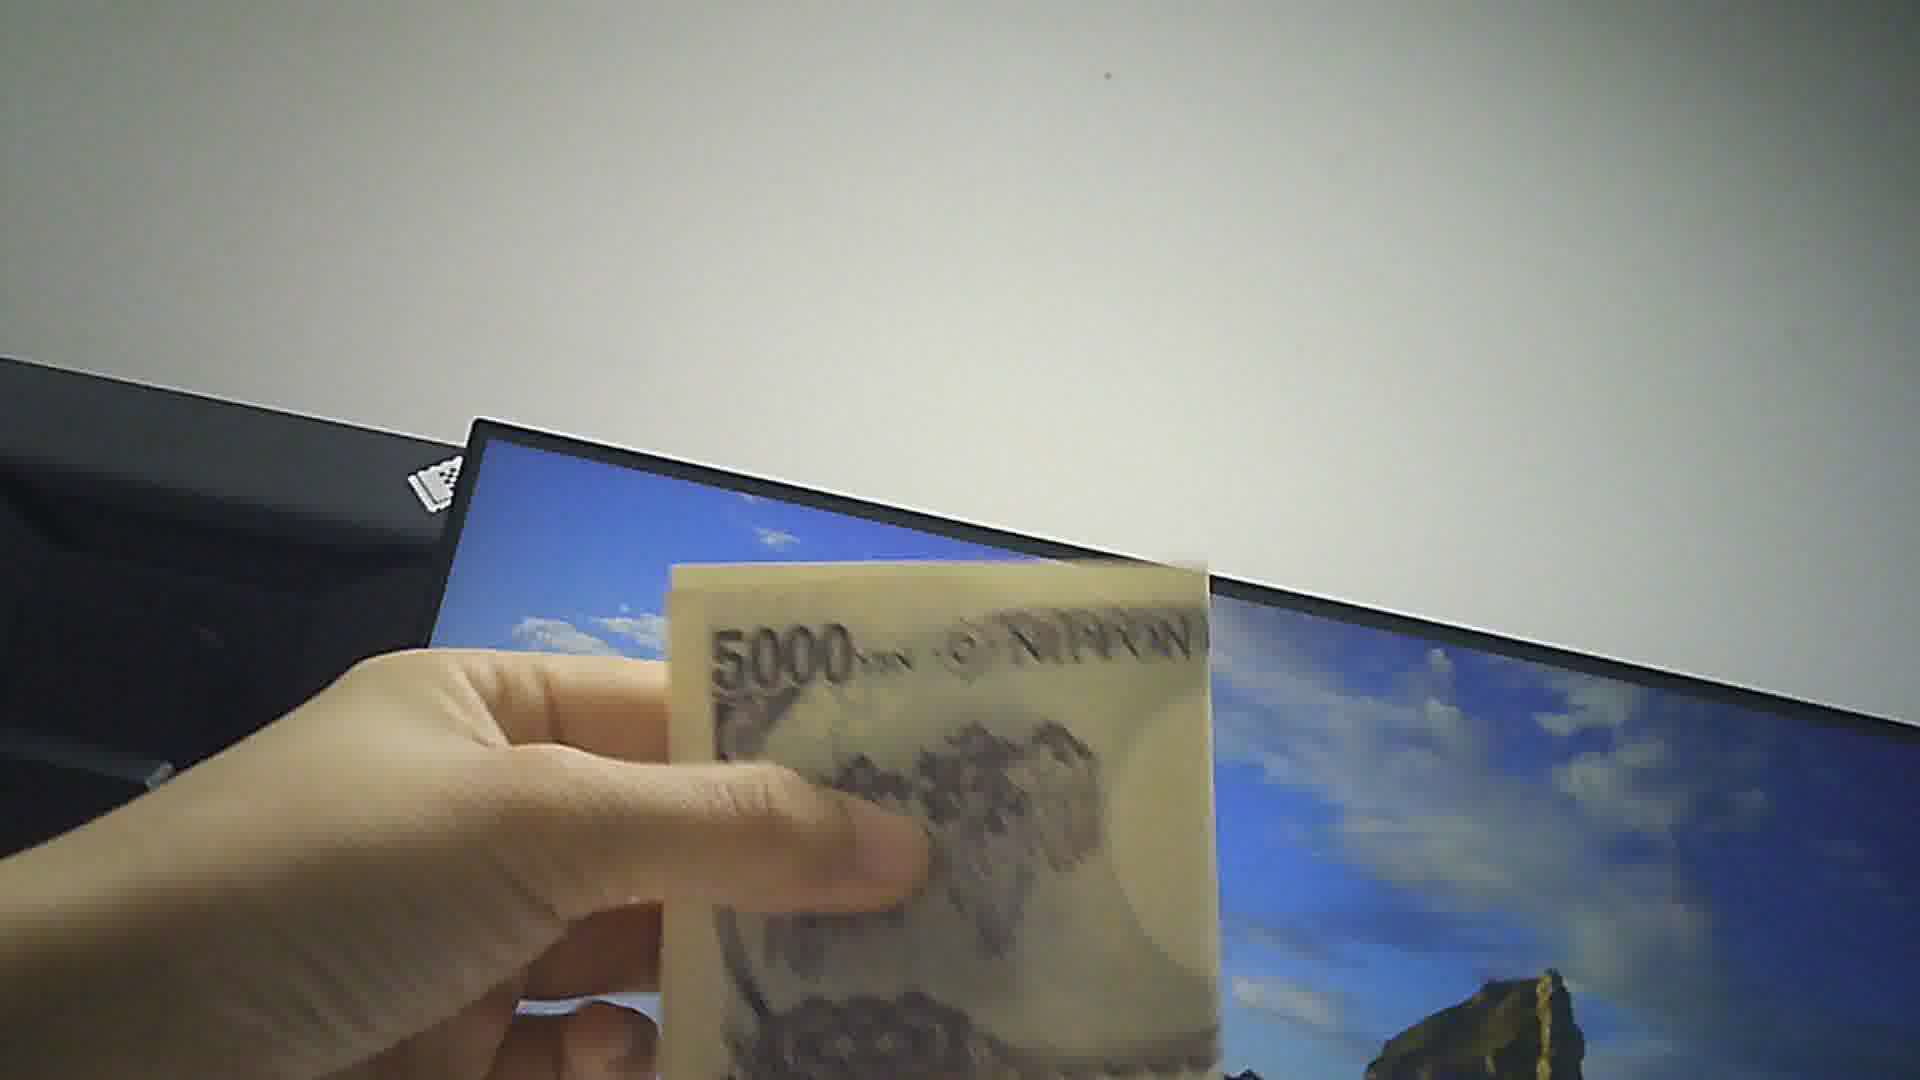5,000 Yen: (644, 533, 1261, 1054)
